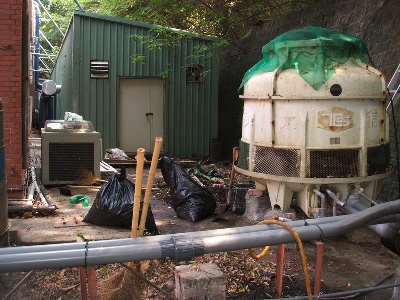plastic_bag: (84, 178, 159, 235), (161, 158, 216, 222)
water_tower: (235, 39, 396, 217)
